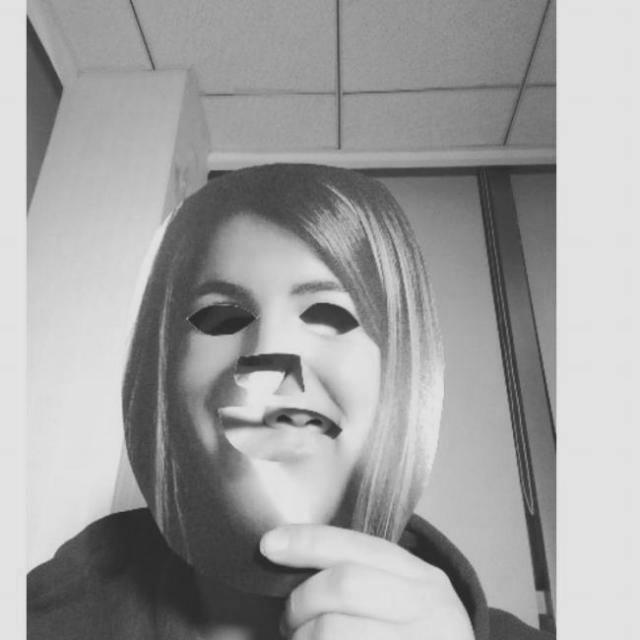fake: (118, 156, 450, 592)
